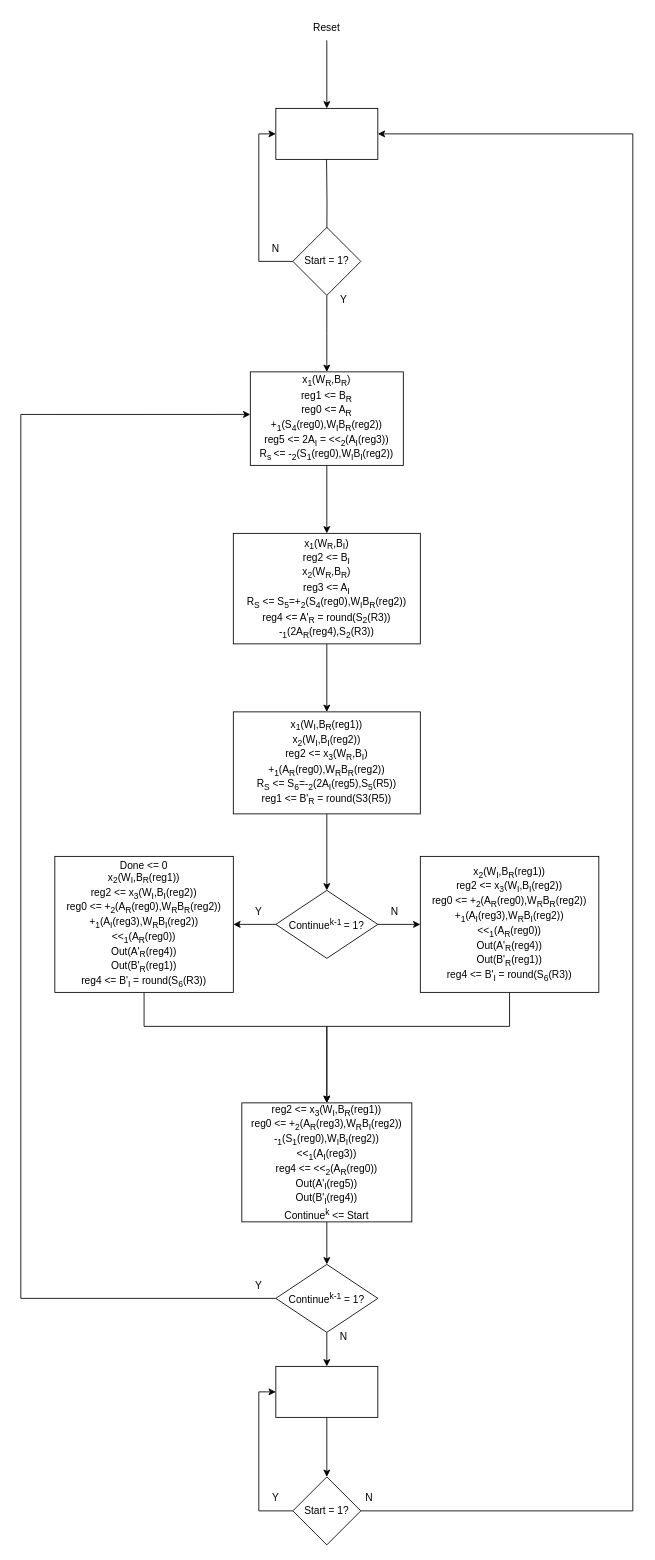
The diagram is 655 pixels wide and 1560 high, and some of its shapes have lost their labels. The shapes that lost their labels are listed below. From the top down, each one's centre as x and y in pixels, then its label:
At point (326, 133): "Done <= 0 Continue k-1 <= Start".
At point (326, 1391): "Done <= 1".
